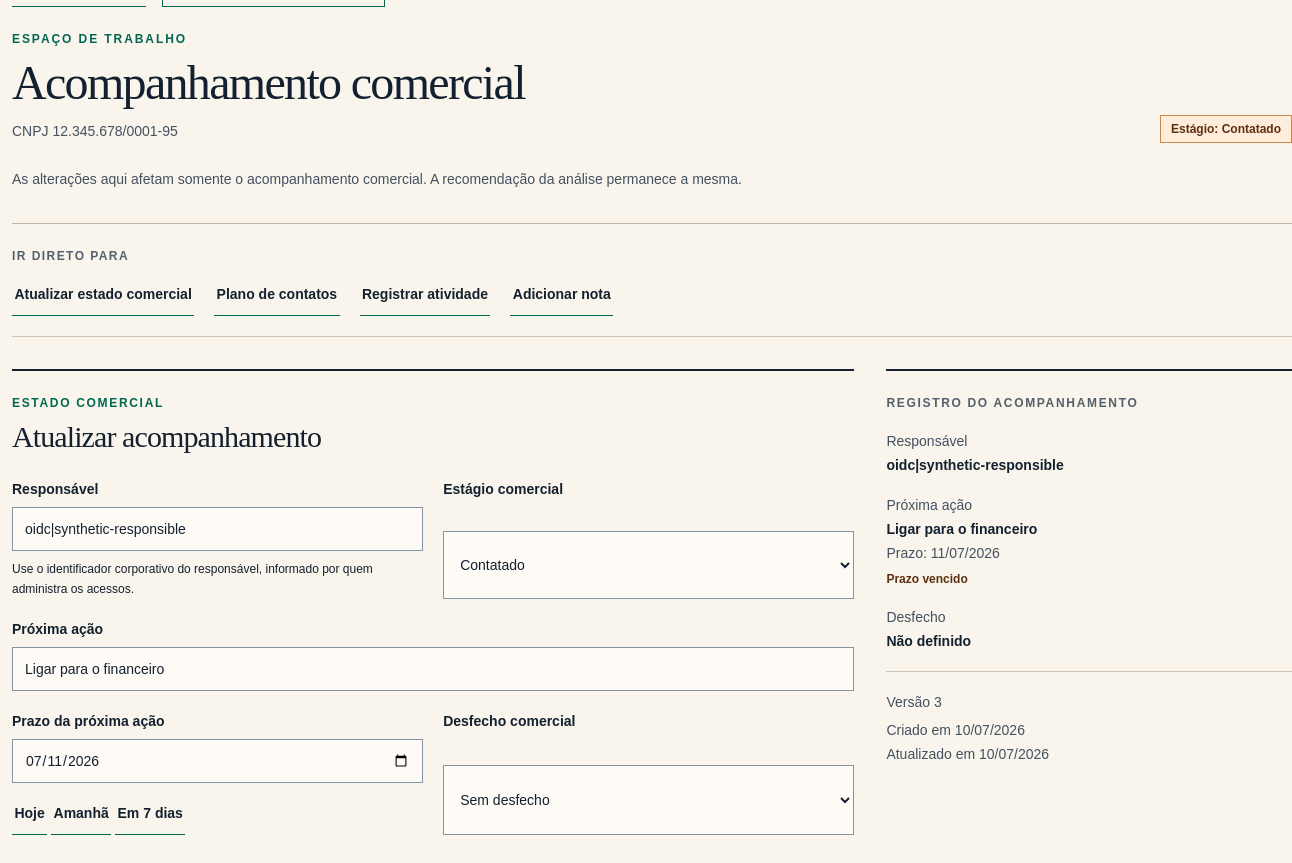
commercial workspace detail page › stops displaying private data and requesting it after a workspace mutation returns 401
Replace the text in the field labelled "Próxima ação" with "Ação que não será salva" at (433, 669), box [12, 647, 854, 691]
(page scrolled)
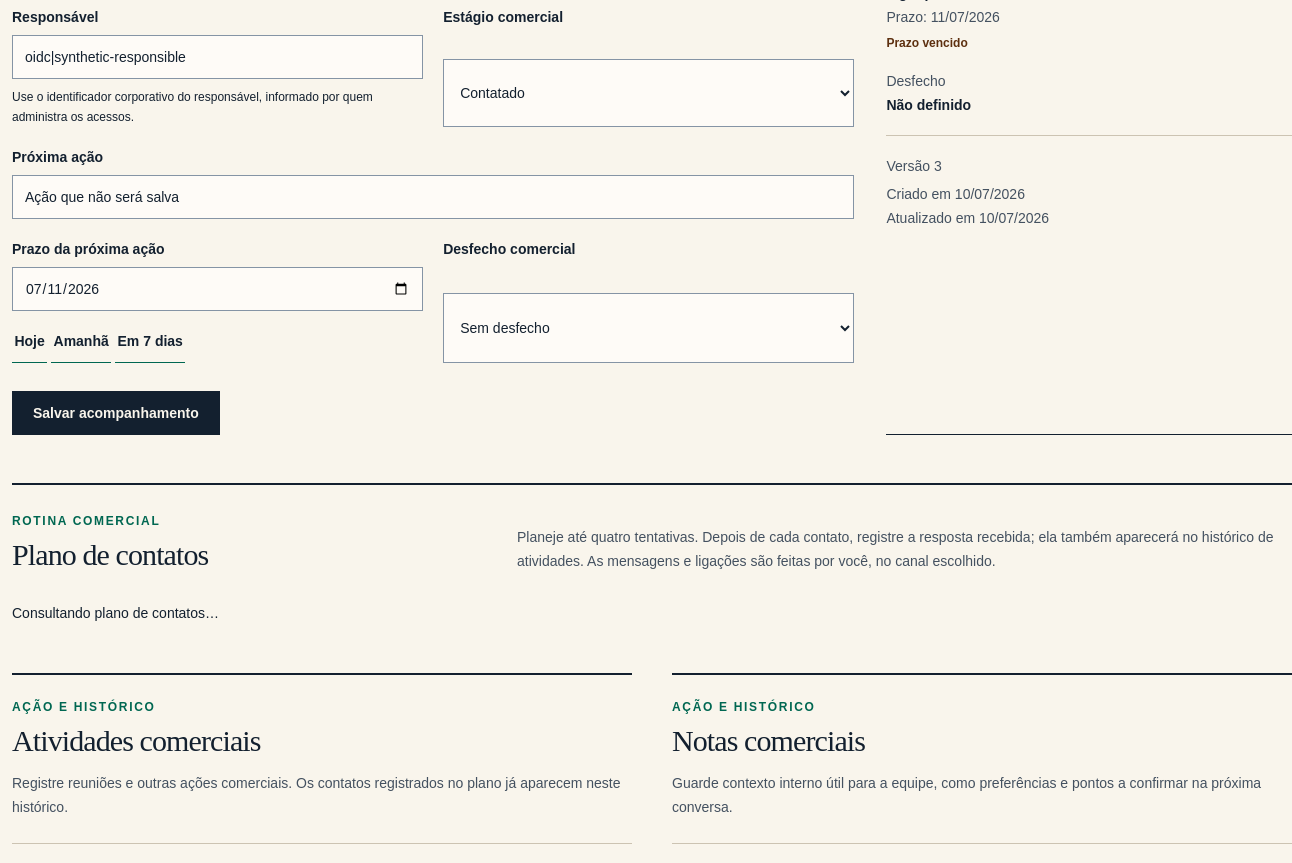
Click the button "Salvar acompanhamento".
click(116, 413)  # box [12, 391, 220, 435]
(page scrolled)
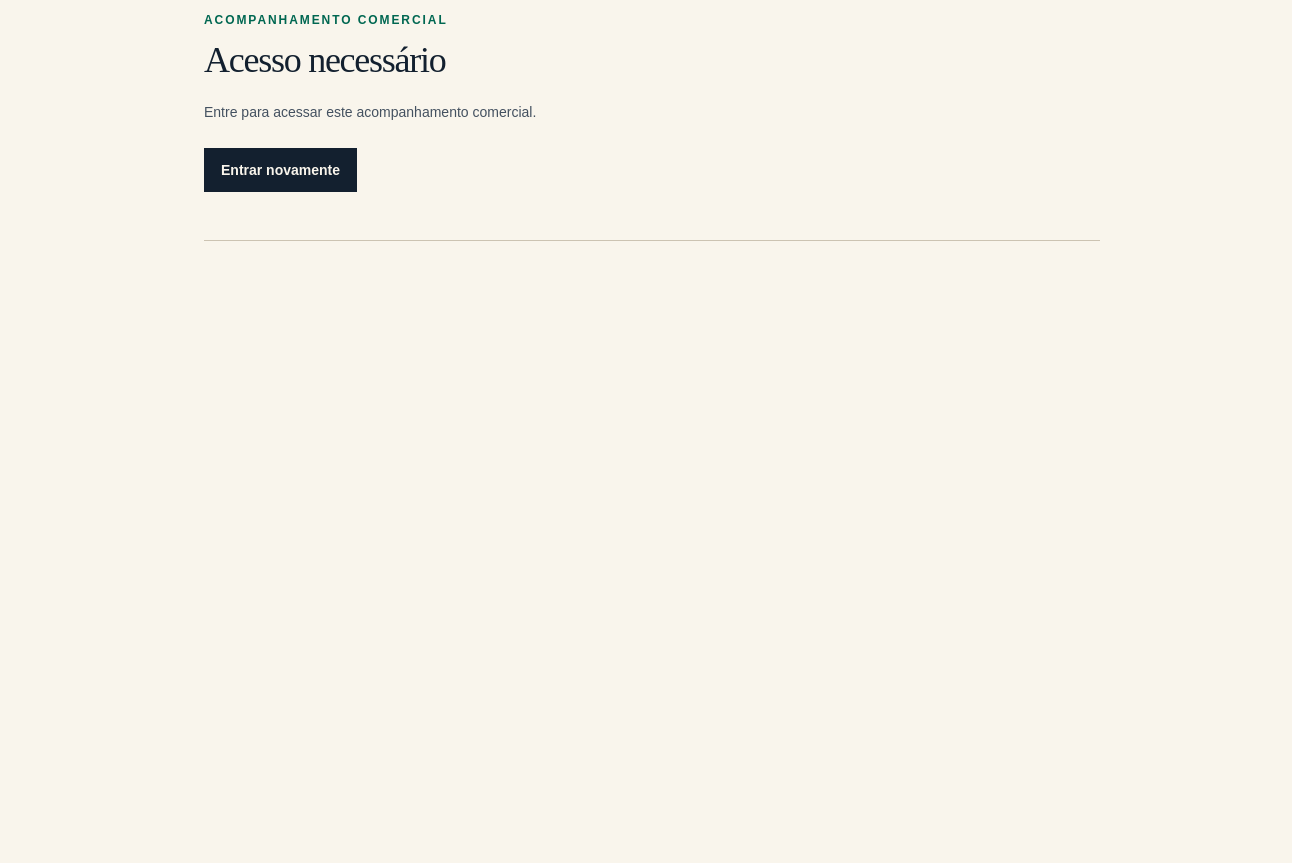
expect the text "Entre para acessar este acompanhamento comercial." is shown: met, box [204, 104, 536, 120]
expect the label labelled "Próxima ação" is gone: met
expect the text "Observação comercial sintética." is gone: met
